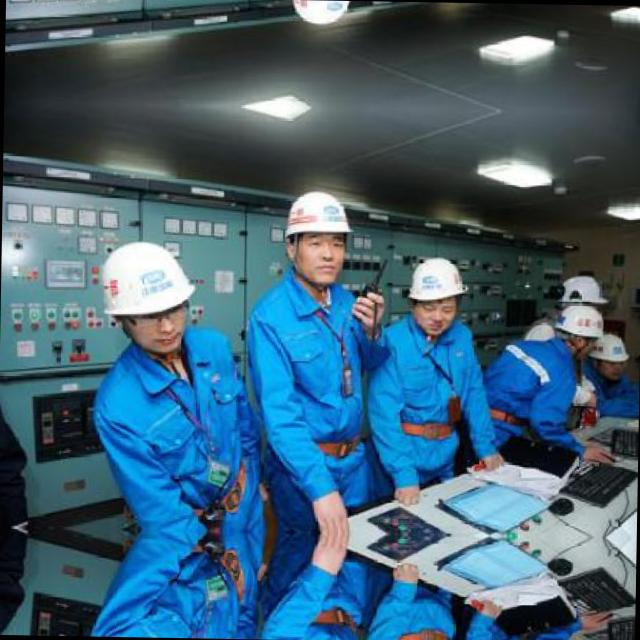helmet: (94, 228, 202, 354), (272, 182, 349, 289), (404, 248, 468, 332), (556, 272, 608, 328), (275, 0, 353, 31), (558, 300, 602, 352), (592, 330, 630, 375)
